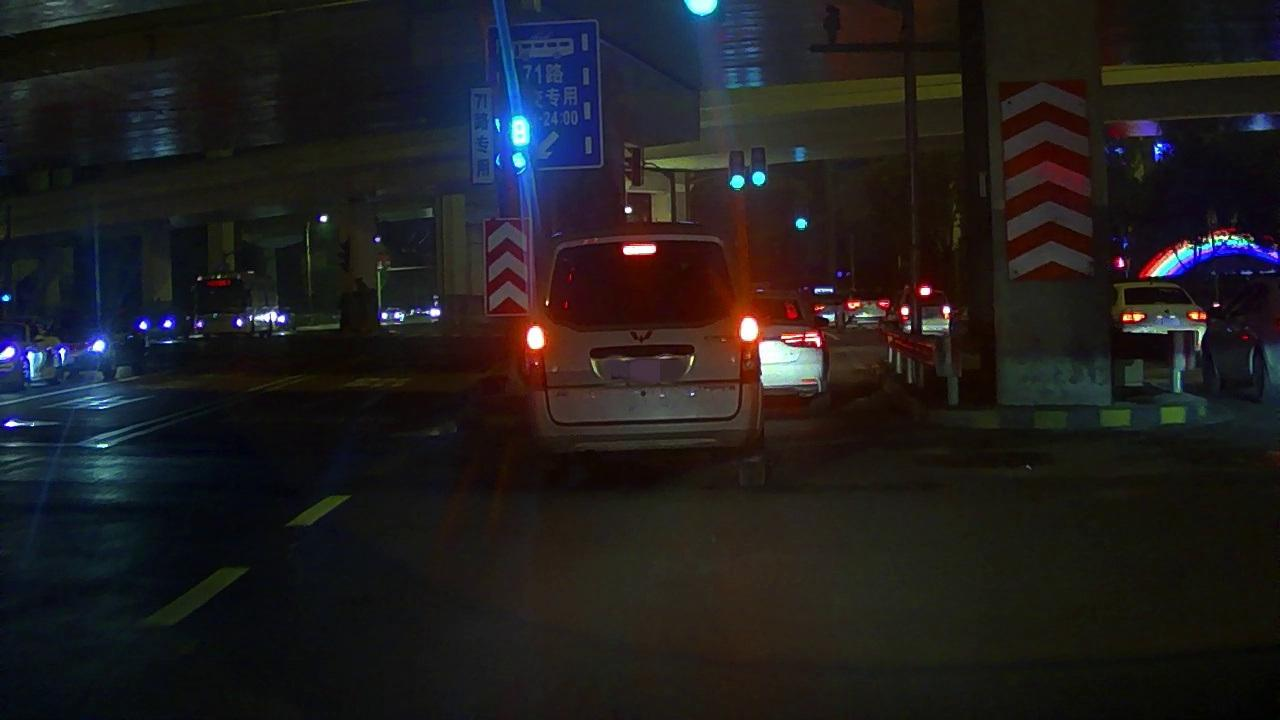traffic_light: (509, 121, 531, 172), (728, 153, 746, 191), (753, 147, 765, 188), (796, 218, 809, 231)
